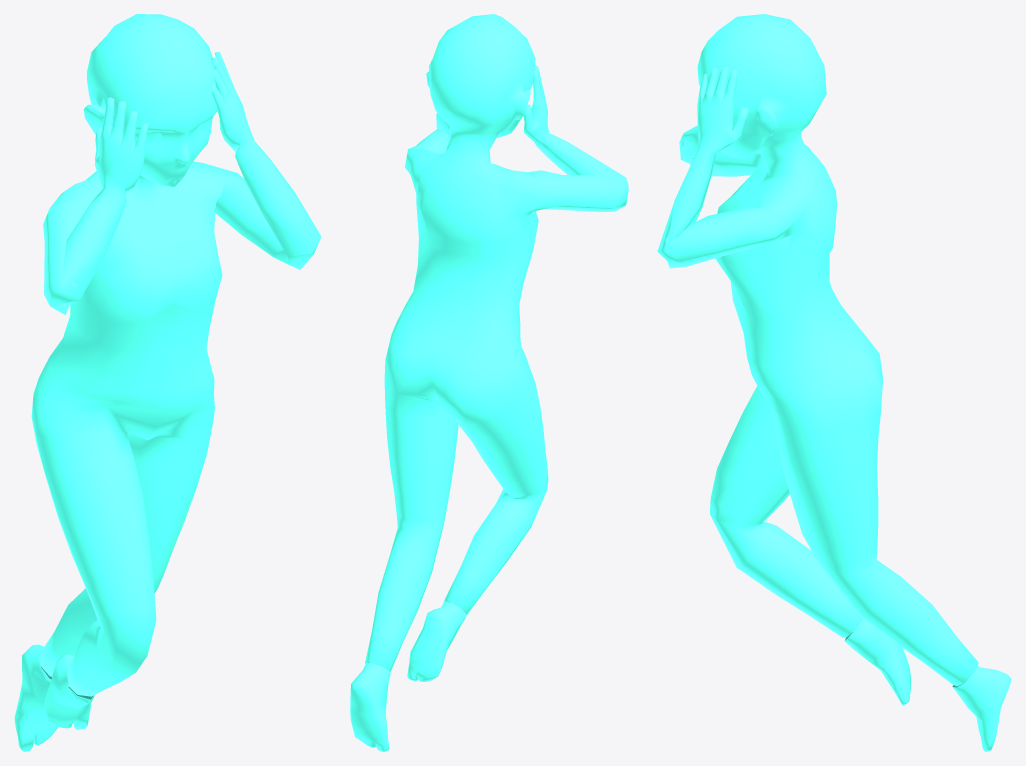
File: ghost.glb
3 renders of one model, left to right at view 1: azimuth 30°, elevation 25°; view 2: azimuth 150°, elevation 25°; view 3: azimuth 270°, elevation 25°, orthographic. The views are drawn at different scales.
Visible parts, largest first — view 1: F_Feet_BaseMesh.000; view 2: F_Feet_BaseMesh.000; view 3: F_Feet_BaseMesh.000.
Boxes of the visible parts, <box> form: F_Feet_BaseMesh.000: <box>14,14,321,751</box>; F_Feet_BaseMesh.000: <box>350,14,628,751</box>; F_Feet_BaseMesh.000: <box>657,14,1011,751</box>.
Bounding box in the file's own units: 0.6065 × 1.86 × 0.8194.
